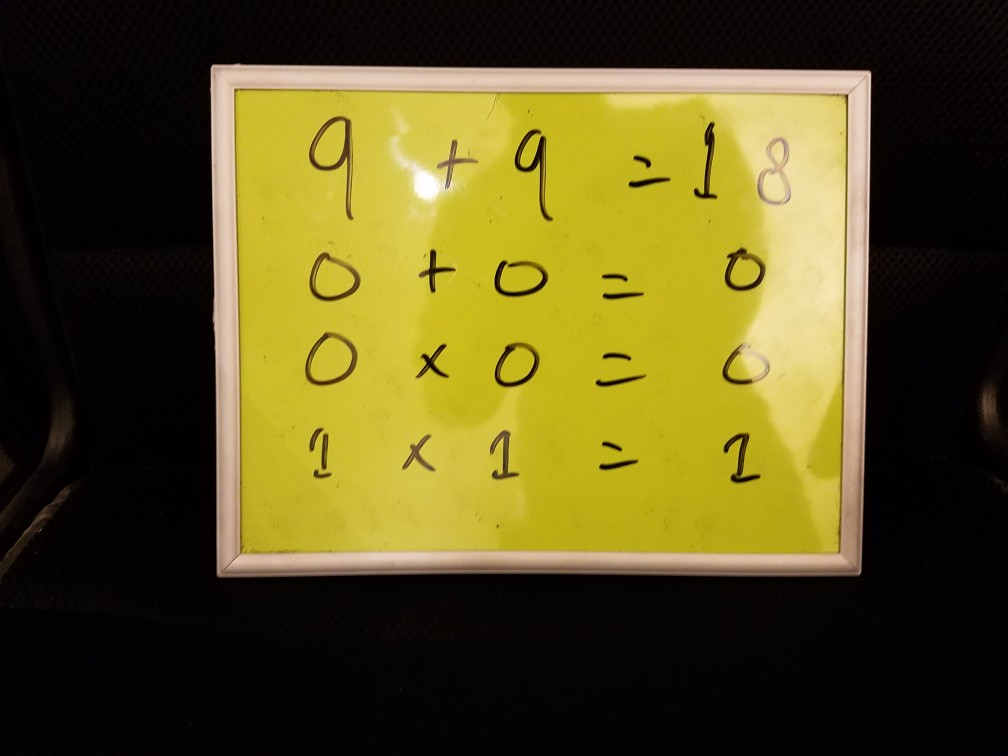+: (412, 240, 463, 298), (434, 134, 479, 193)
0: (301, 241, 366, 307), (298, 327, 364, 392), (715, 239, 775, 299), (486, 334, 544, 393), (718, 334, 777, 392), (488, 251, 552, 304)
1: (688, 115, 724, 211), (715, 424, 766, 491), (480, 423, 528, 486), (300, 423, 341, 488)
8: (751, 126, 798, 216)
9: (306, 111, 365, 224), (510, 121, 557, 227)
=: (585, 342, 651, 392), (587, 430, 648, 479), (594, 262, 652, 310), (623, 148, 674, 194)
x: (395, 428, 441, 481), (411, 338, 452, 391)
